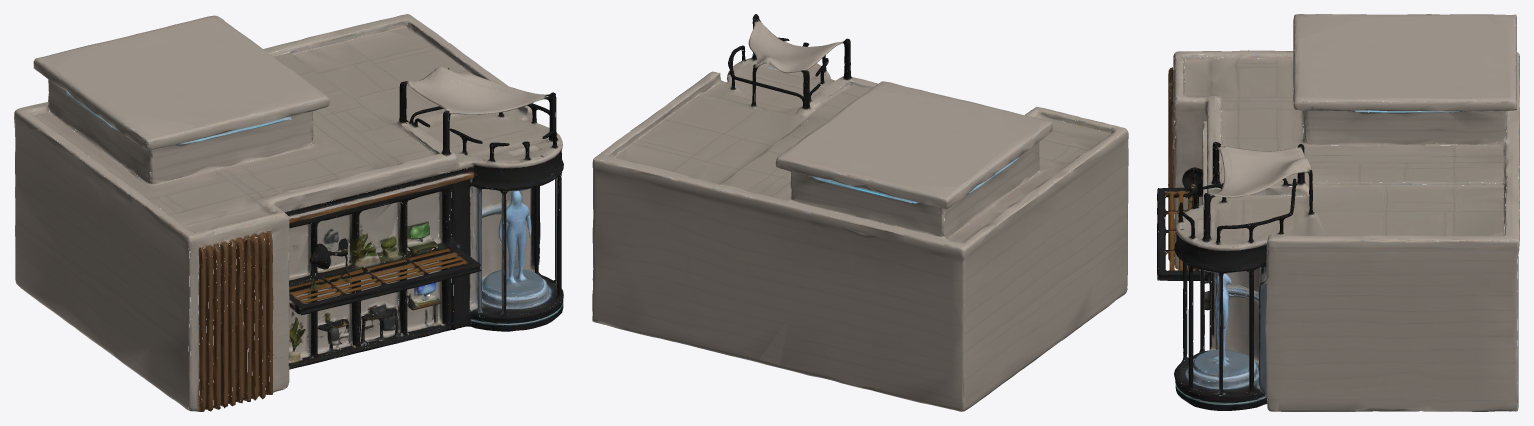
File: future-careers-hub.glb
The picture shows the model from 3 angles, left to right: view 1: azimuth 30°, elevation 25°; view 2: azimuth 150°, elevation 25°; view 3: azimuth 270°, elevation 25°; orthographic projection. The views are drawn at different scales.
Parts seen in each view (by area): view 1: tripo_node_68513fd0; view 2: tripo_node_68513fd0; view 3: tripo_node_68513fd0.
Part boxes in pixels (x1,y1,x2,y2): tripo_node_68513fd0: [14, 14, 563, 411]; tripo_node_68513fd0: [592, 14, 1128, 411]; tripo_node_68513fd0: [1157, 14, 1519, 411].
Bounding box in the file's own units: 11.13 × 6 × 8.98.
1 material, 1 textured.
